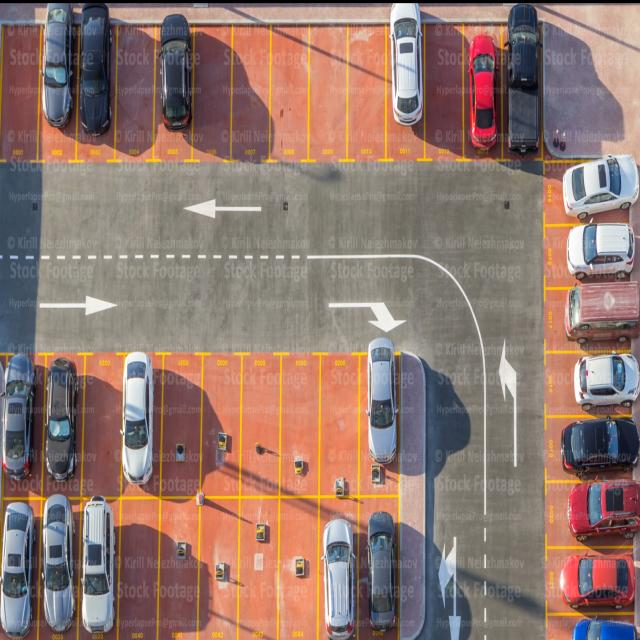cars: (562, 153, 639, 223), (80, 494, 116, 634), (0, 501, 36, 638), (41, 492, 76, 632), (560, 416, 640, 476), (506, 5, 539, 149), (566, 478, 640, 542), (564, 281, 639, 343), (40, 2, 76, 129), (120, 351, 154, 485), (1, 352, 36, 482), (79, 2, 112, 136), (560, 552, 636, 610), (320, 518, 356, 638), (44, 356, 78, 482), (389, 1, 423, 126), (566, 220, 635, 280), (366, 336, 398, 464), (574, 351, 640, 413), (158, 13, 192, 131), (366, 511, 396, 631), (468, 34, 498, 150), (571, 617, 639, 639)
